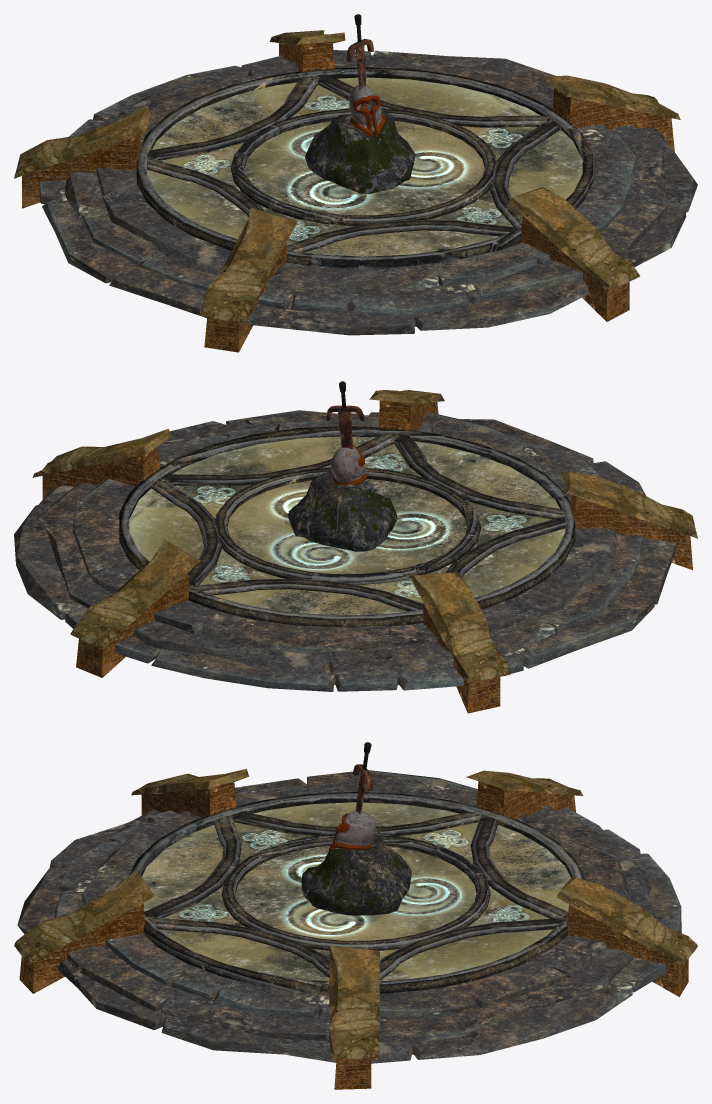
File: altar.glb
3 views of the same model, one above another, from view 1: azimuth 30°, elevation 25°; view 2: azimuth 150°, elevation 25°; view 3: azimuth 270°, elevation 25° (orthographic).
Parts seen in each view (by area): view 1: Object_3; view 2: Object_3; view 3: Object_3.
Boxes of the visible parts, x1,y1,x2,y2 form: Object_3: [14, 14, 697, 352]; Object_3: [14, 381, 697, 713]; Object_3: [14, 742, 697, 1089].
Size of the model in its own units: 3.12 by 0.9965 by 3.1.
1 material, 1 textured.
